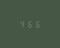four: (18, 19, 24, 27)
six: (26, 19, 32, 28), (33, 20, 39, 28)
